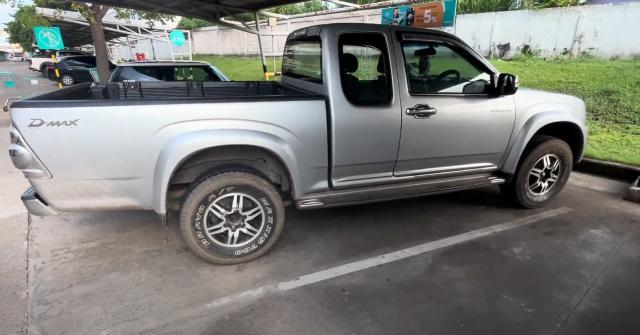pickup-truck: (5, 21, 586, 263)
